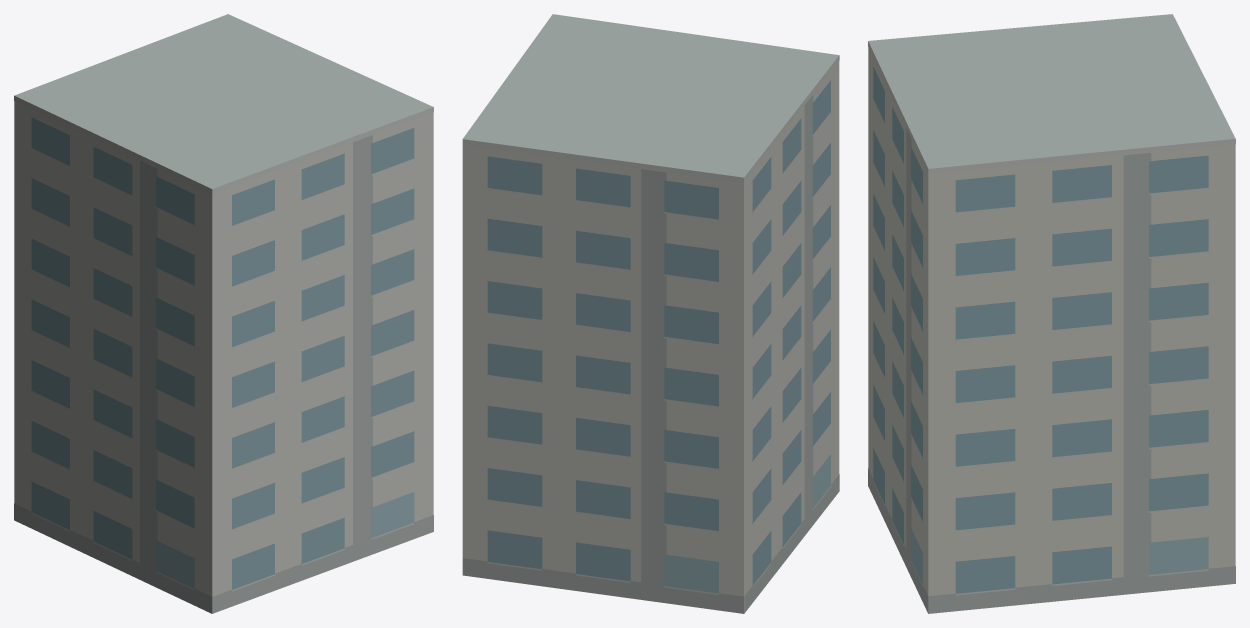
File: survey-upis-32823597.glb
The picture shows the model from 3 angles, left to right: view 1: azimuth 30°, elevation 25°; view 2: azimuth 150°, elevation 25°; view 3: azimuth 270°, elevation 25°; orthographic projection. The views are drawn at different scales.
Visible parts, largest first — view 1: survey-upis-32823597.tmp; view 2: survey-upis-32823597.tmp; view 3: survey-upis-32823597.tmp.
Part boxes in pixels (x1,y1,x2,y2): survey-upis-32823597.tmp: (14,14,433,613); survey-upis-32823597.tmp: (462,14,839,613); survey-upis-32823597.tmp: (868,14,1235,613).
Size of the model in its own units: 14.34 by 19.2 by 14.39.
